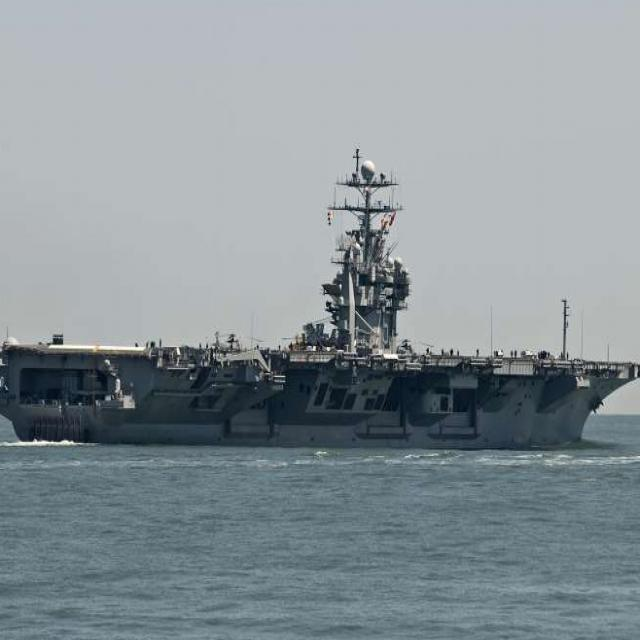Portanaves: (1, 149, 640, 452)
